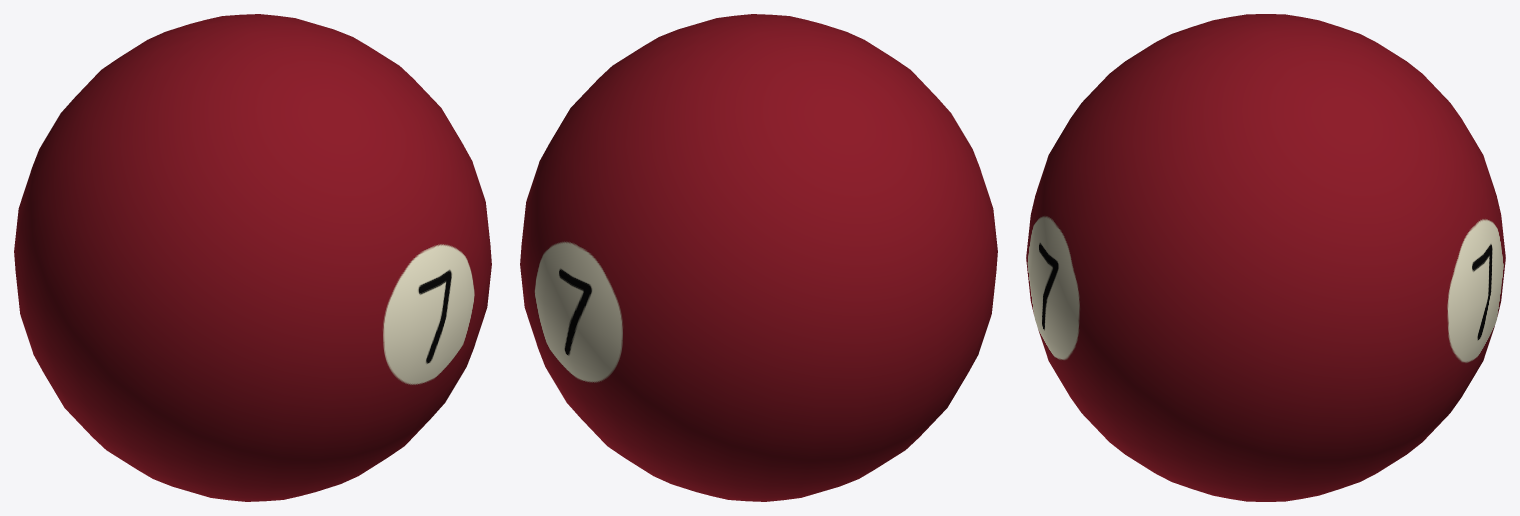
Rendered from ball_07_LOD0.dae.
The picture shows the model from 3 angles, left to right: view 1: azimuth 30°, elevation 25°; view 2: azimuth 150°, elevation 25°; view 3: azimuth 270°, elevation 25°; orthographic projection.
Visible parts, largest first — view 1: ball_07_LOD0; view 2: ball_07_LOD0; view 3: ball_07_LOD0.
Boxes of the visible parts, <box> form: ball_07_LOD0: <box>14,14,491,501</box>; ball_07_LOD0: <box>520,14,997,501</box>; ball_07_LOD0: <box>1026,14,1505,501</box>.
Size of the model in its own units: 5.5 by 5.67 by 5.5.
